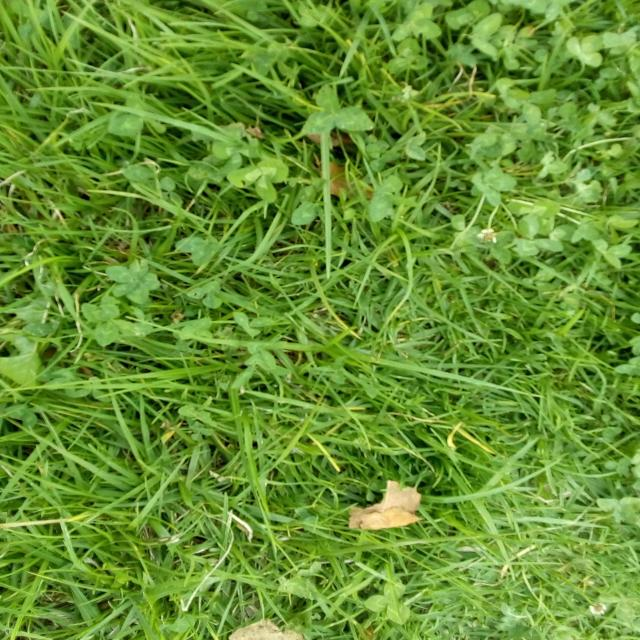Four Leaf Clover: (80, 302, 141, 345)
